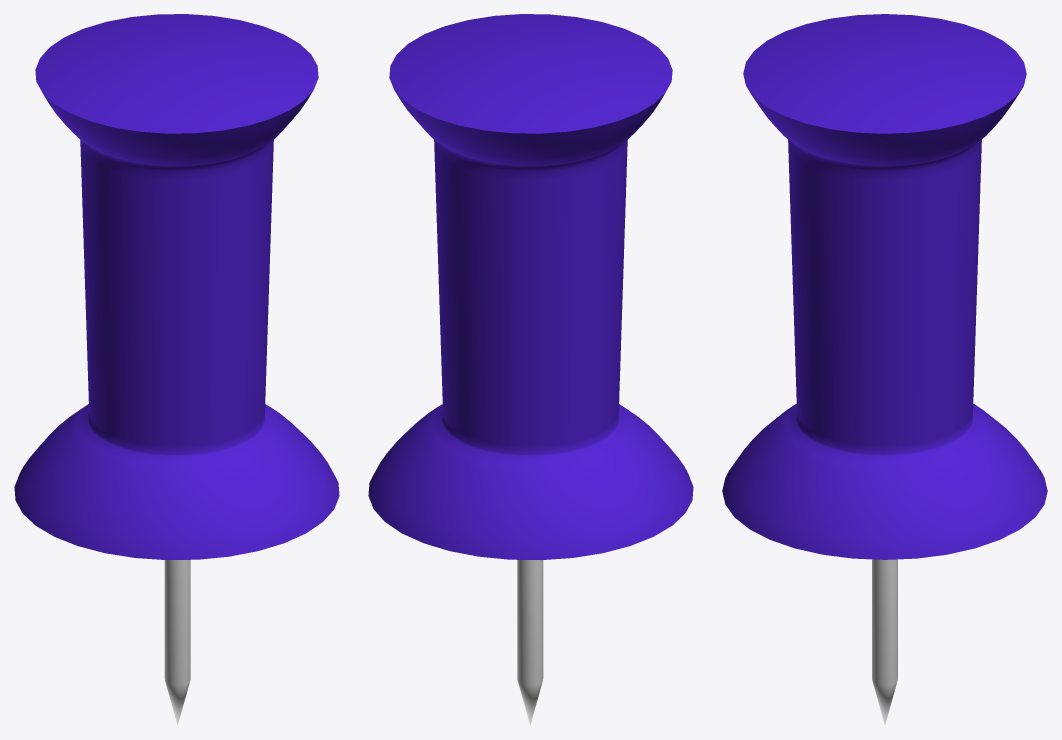
File: Pin.fbx
The picture shows the model from 3 angles, left to right: view 1: azimuth 30°, elevation 25°; view 2: azimuth 150°, elevation 25°; view 3: azimuth 270°, elevation 25°; orthographic projection.
Parts seen in each view (by area): view 1: Pin; view 2: Pin; view 3: Pin.
Part boxes in pixels (<box>): Pin: <box>14,14,339,725</box>; Pin: <box>368,14,693,725</box>; Pin: <box>722,14,1047,724</box>.
Bounding box in the file's own units: 527 × 1200 × 527.
